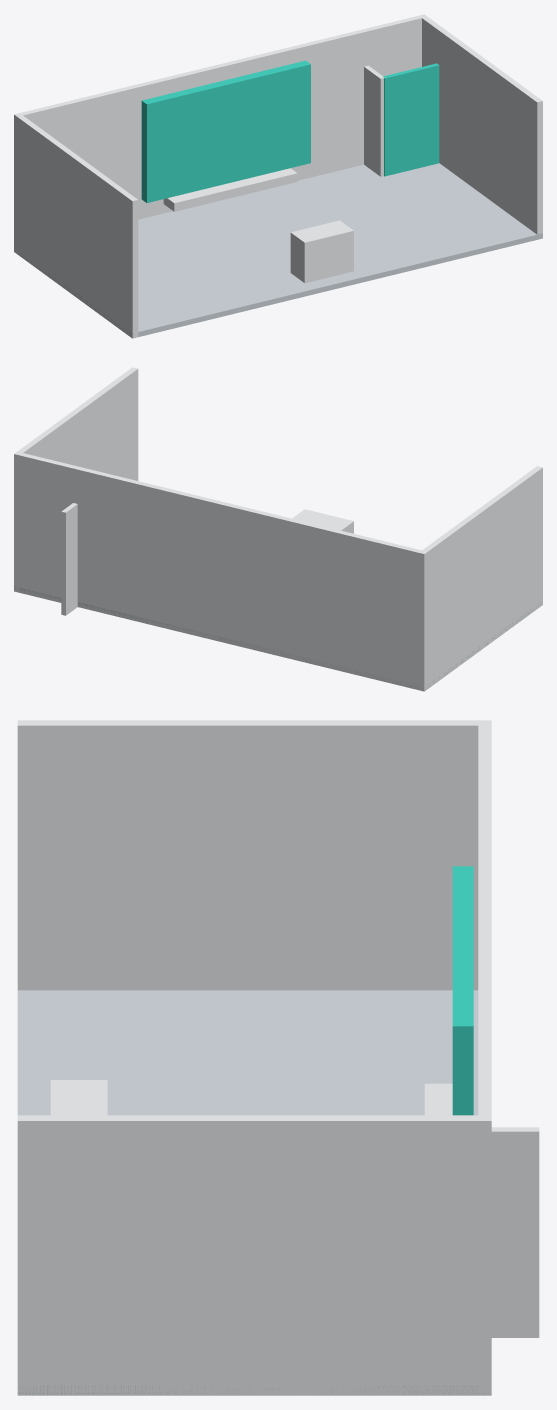
3 views of the same model, one above another, from view 1: azimuth 30°, elevation 25°; view 2: azimuth 150°, elevation 25°; view 3: azimuth 270°, elevation 25° (orthographic). The views are drawn at different scales.
Parts seen in each view (by area): view 1: Exhibition Booth Concept; view 2: Exhibition Booth Concept; view 3: Exhibition Booth Concept.
Boxes of the visible parts, bbox=[...] form: Exhibition Booth Concept: bbox=[14, 14, 542, 338]; Exhibition Booth Concept: bbox=[14, 367, 542, 691]; Exhibition Booth Concept: bbox=[17, 720, 539, 1395].
Bounding box in the file's own units: 10 × 3.2 × 5.51.
